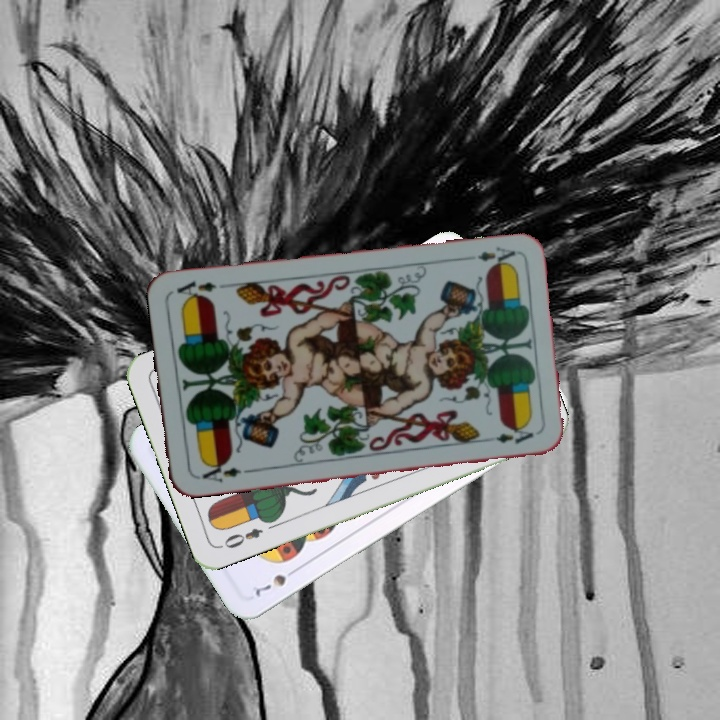EA: (460, 242, 518, 270), (192, 458, 244, 485)
EO: (220, 523, 266, 551)
S7: (247, 563, 302, 601)
